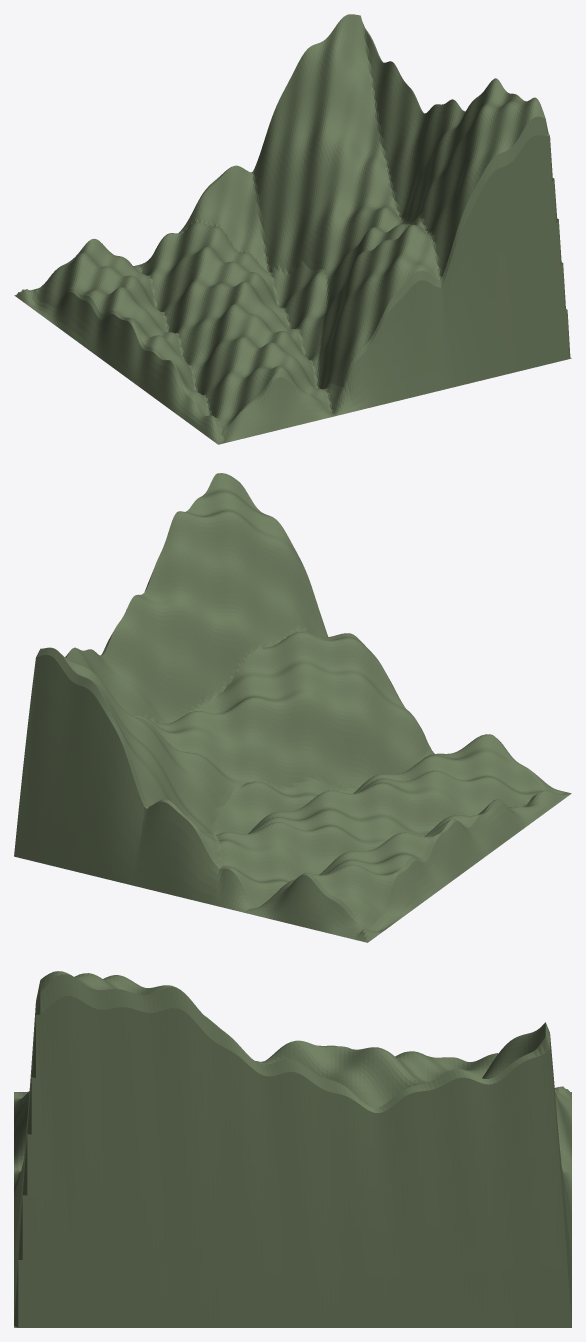
The model's file is sapphire_tidepool_bays.obj.
3 renders of one model, top to bottom at view 1: azimuth 30°, elevation 25°; view 2: azimuth 150°, elevation 25°; view 3: azimuth 270°, elevation 25°, orthographic. The views are drawn at different scales.
Visible parts, largest first — view 1: sapphire_tidepool_bays; view 2: sapphire_tidepool_bays; view 3: sapphire_tidepool_bays.
Boxes of the visible parts, x1=… form: sapphire_tidepool_bays: x1=14, y1=14, x2=571, y2=444; sapphire_tidepool_bays: x1=14, y1=473, x2=571, y2=942; sapphire_tidepool_bays: x1=14, y1=971, x2=571, y2=1327.
Bounding box in the file's own units: 28 × 19.81 × 28.
